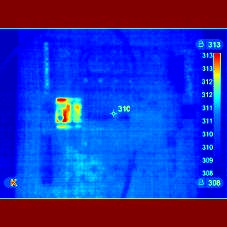Less: (69, 109, 83, 130)
